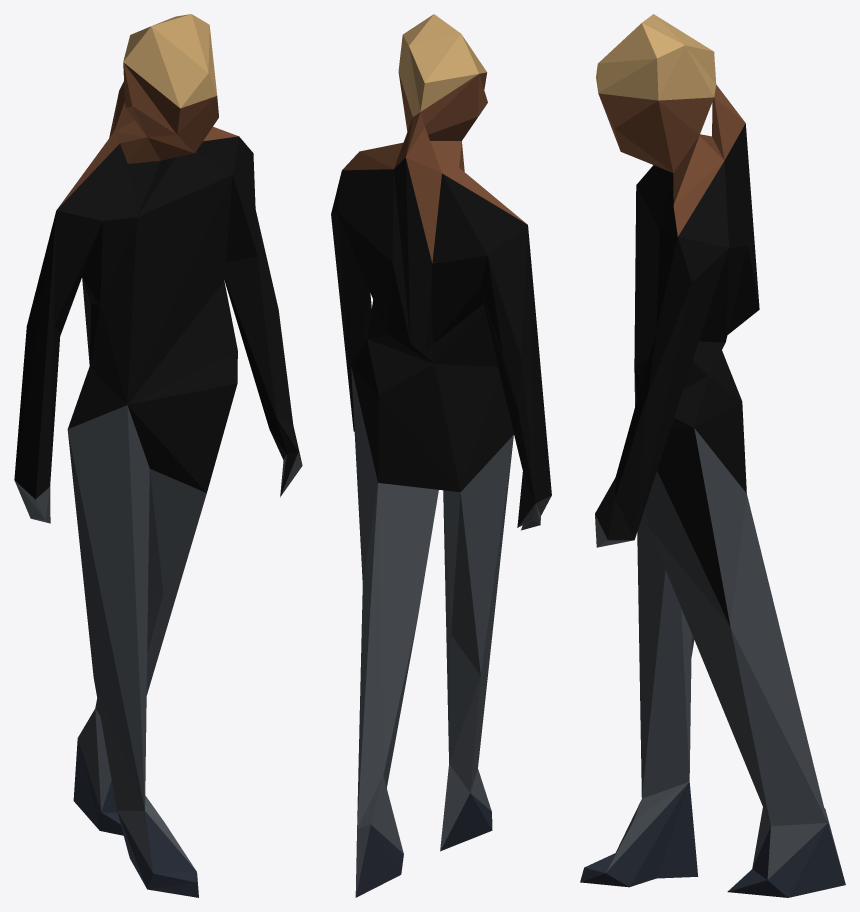
Rendered from walker-5.glb.
3 views of the same model, side by side, from view 1: azimuth 30°, elevation 25°; view 2: azimuth 150°, elevation 25°; view 3: azimuth 270°, elevation 25° (orthographic). The views are drawn at different scales.
Visible parts, largest first — view 1: Woman01; view 2: Woman01; view 3: Woman01.
Boxes of the visible parts, <box> form: Woman01: <box>14,14,302,897</box>; Woman01: <box>331,14,551,897</box>; Woman01: <box>580,14,845,897</box>.
Bounding box in the file's own units: 0.4552 × 1.57 × 0.4355.
